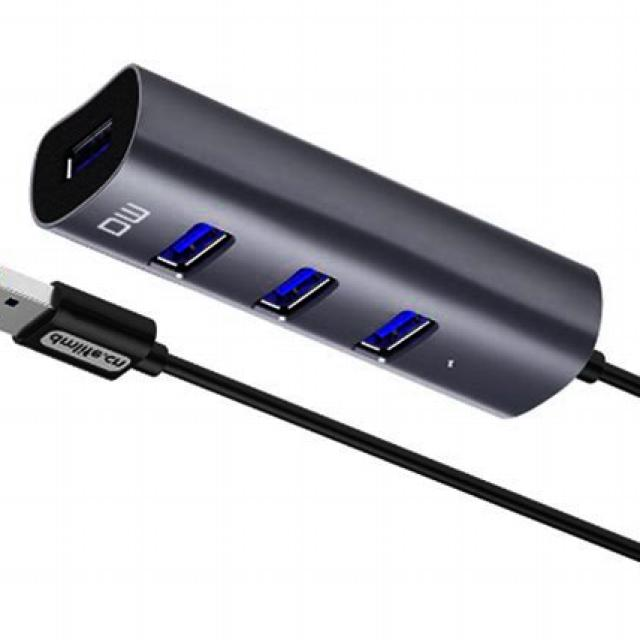usb port: (355, 311, 435, 368), (247, 272, 330, 325), (56, 116, 116, 188), (163, 224, 226, 286)
